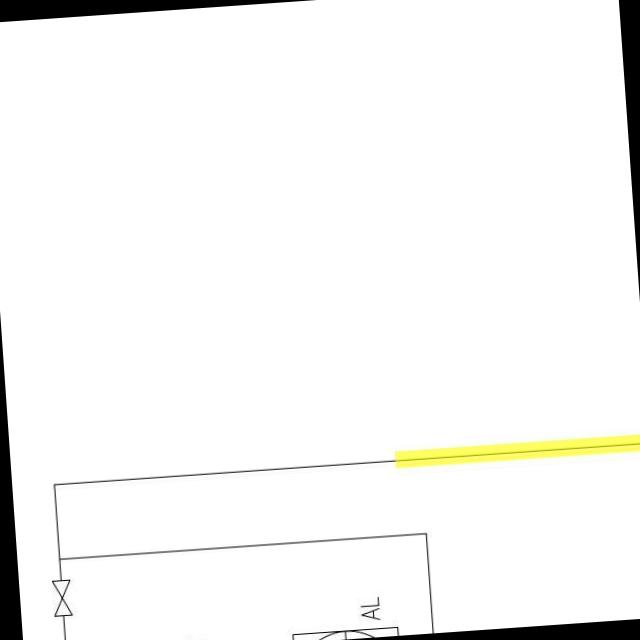GV: (45, 574, 77, 622)
